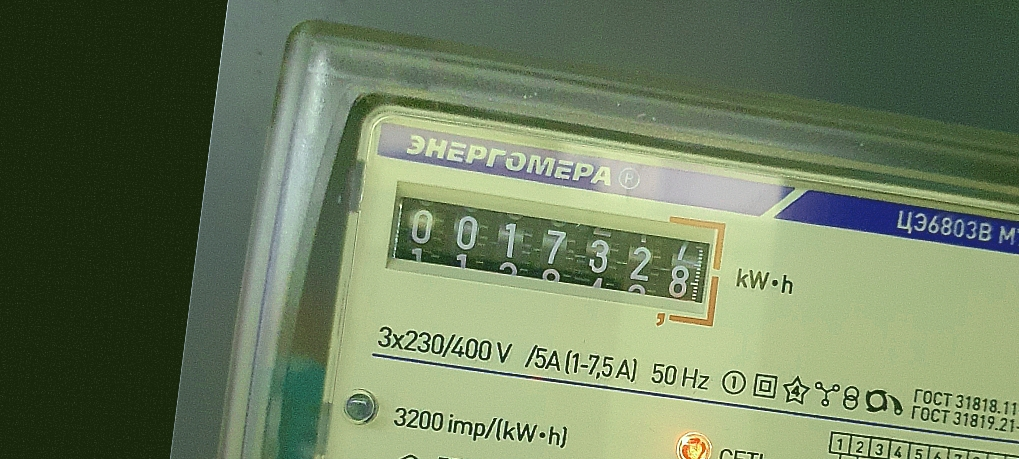0: (406, 204, 437, 247), (453, 211, 480, 252)
1: (497, 218, 520, 260)
2: (627, 243, 654, 282)
3: (586, 236, 612, 274)
7: (541, 226, 568, 267)
8: (667, 260, 690, 298)
screen: (372, 176, 737, 335)
